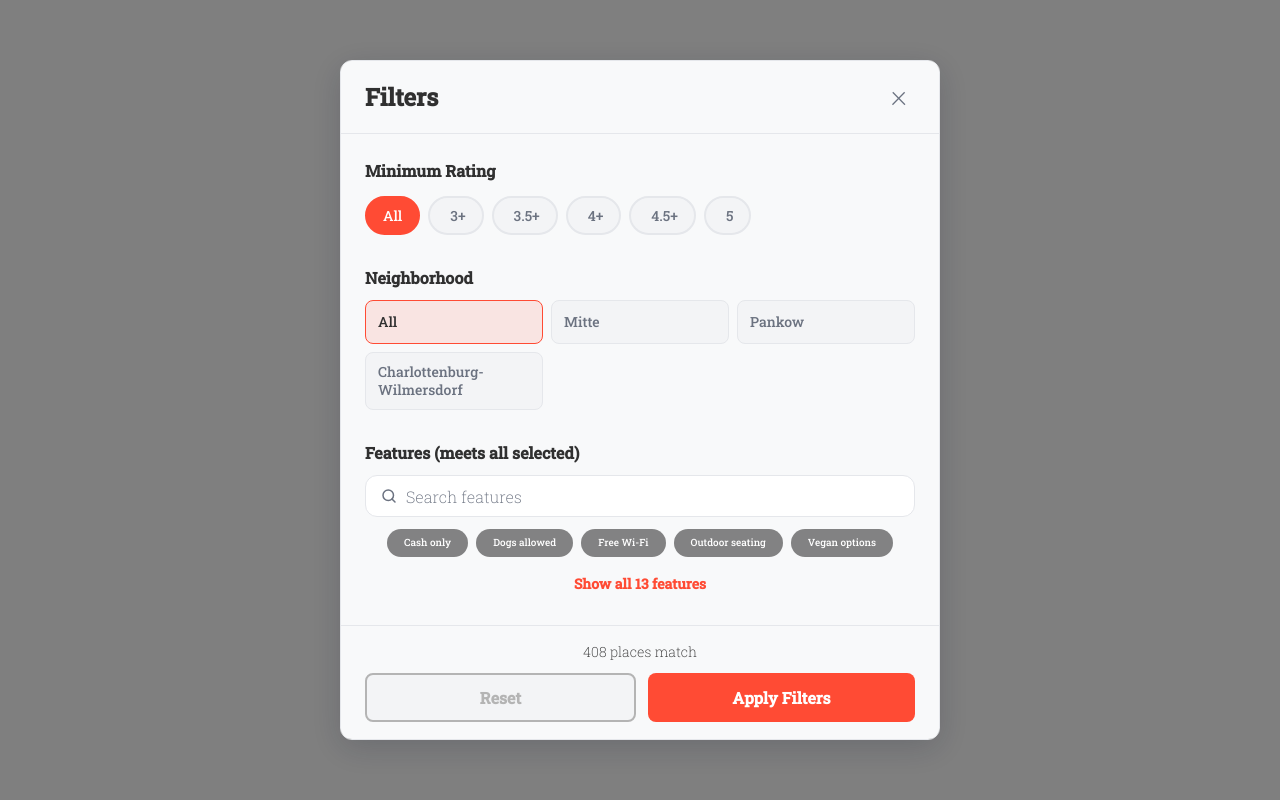
Scenario: FilterPanel › Features › says no Features match, and "Clear search" brings the collapsed list back
Check: the button "Dogs allowed" is shown, box [476,529,573,557]
Type "sauna" into the search field labelled "Search features".
click(656, 496); type("sauna")  # box [406,476,906,516]
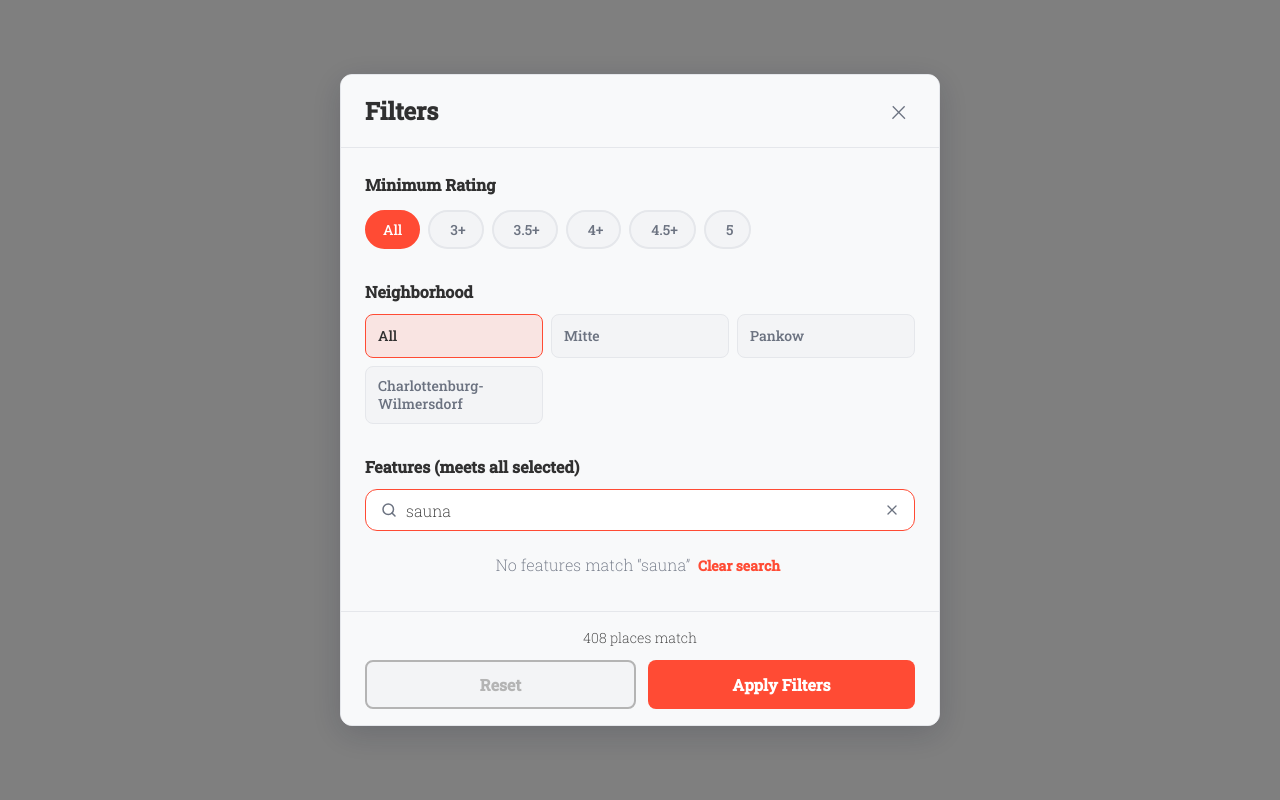
Check: the text "No features match “sauna” Clear search" is shown, box [496,543,784,587]
Check: the button "Dogs allowed" is gone
Click the button "Clear search".
click(739, 565)  # box [694,543,784,587]
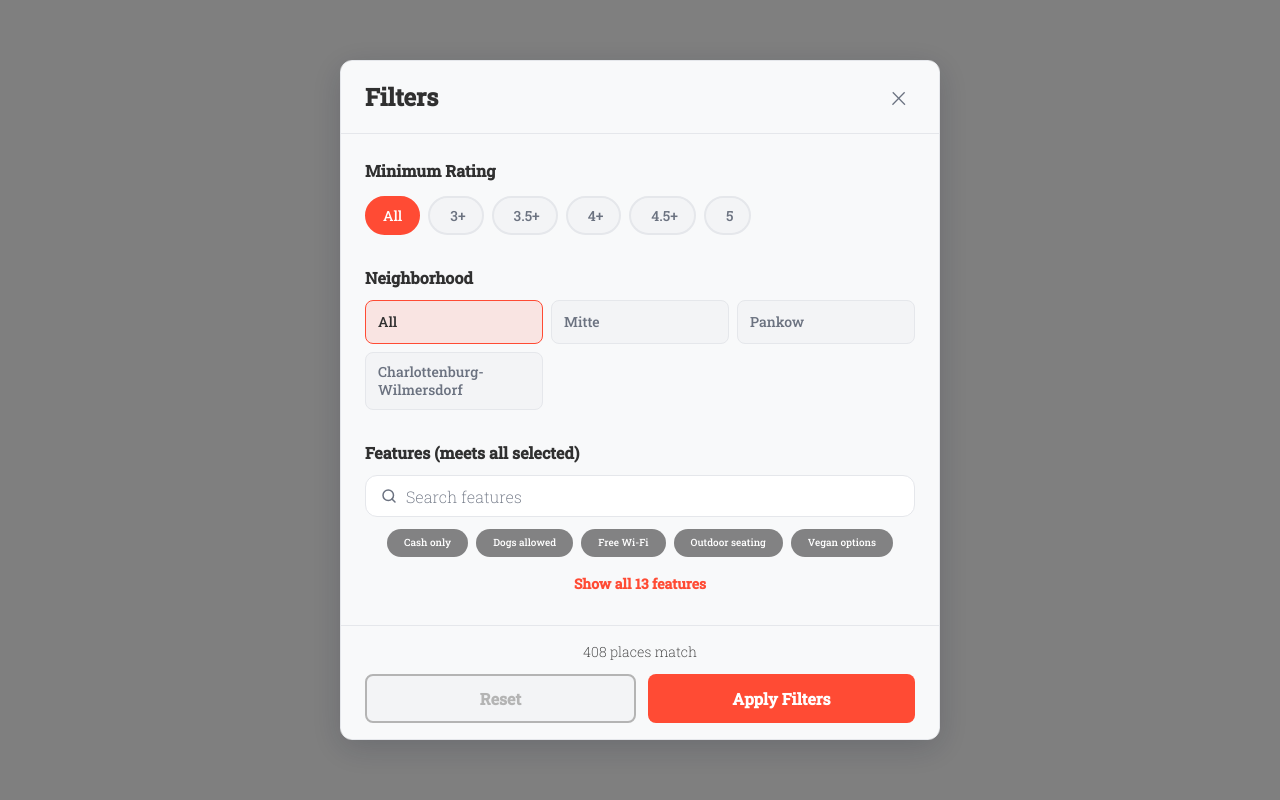
Check: the text "No features match" is gone
Check: the button "Dogs allowed" is shown, box [476,529,573,557]
Check: the button "Show all 13 features" is shown, box [562,561,718,605]
